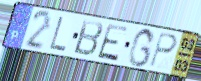2: (23, 9, 55, 52)
B: (72, 18, 105, 58)
E: (95, 23, 130, 64)
G: (127, 27, 157, 69)
L: (48, 15, 68, 53)
P: (148, 31, 179, 69)
